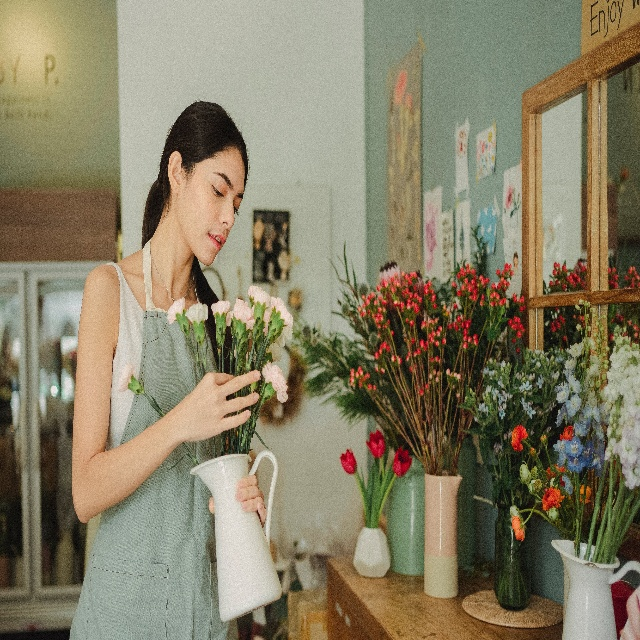Sin_guantes: (180, 370, 261, 438), (207, 474, 265, 528)
